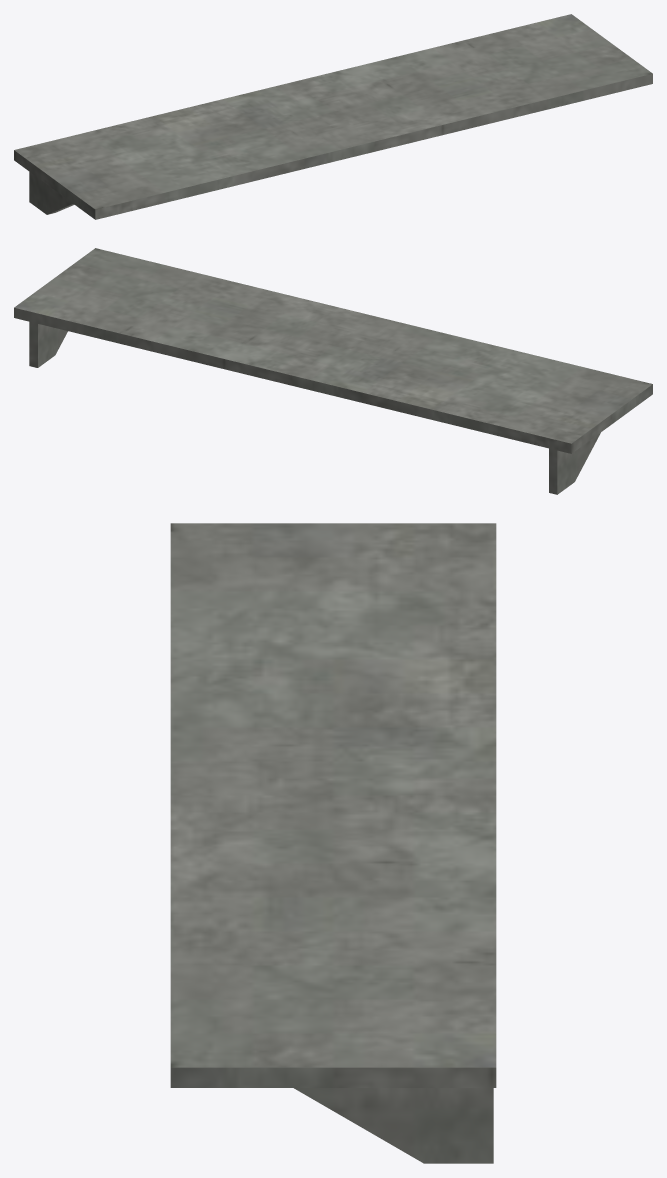
Rendered from MetalShelfBig.glb.
The picture shows the model from 3 angles, top to bottom: view 1: azimuth 30°, elevation 25°; view 2: azimuth 150°, elevation 25°; view 3: azimuth 270°, elevation 25°; orthographic projection. The views are drawn at different scales.
Parts seen in each view (by area): view 1: Rack; view 2: Rack; view 3: Rack.
Boxes of the visible parts, x1=… form: Rack: x1=14, y1=14, x2=652, y2=219; Rack: x1=14, y1=248, x2=652, y2=494; Rack: x1=170, y1=523, x2=496, y2=1163.
Size of the model in its own units: 2.98 by 0.2825 by 0.7545.
1 material, 1 textured.
